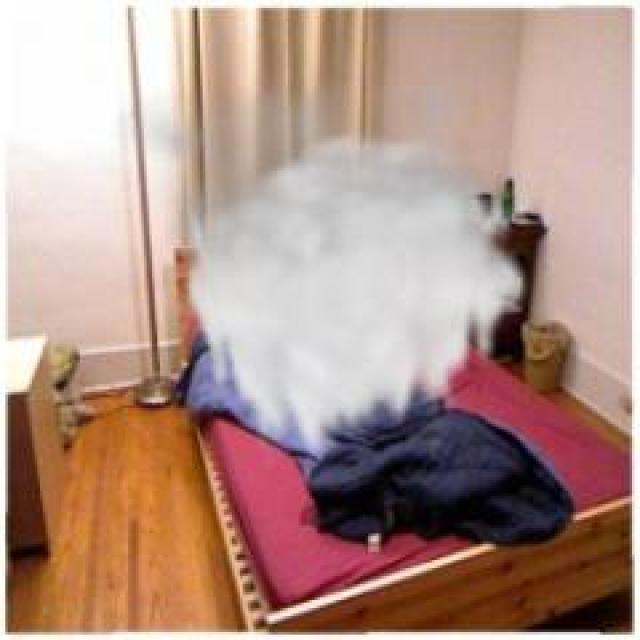Smoke: (133, 88, 531, 460)
